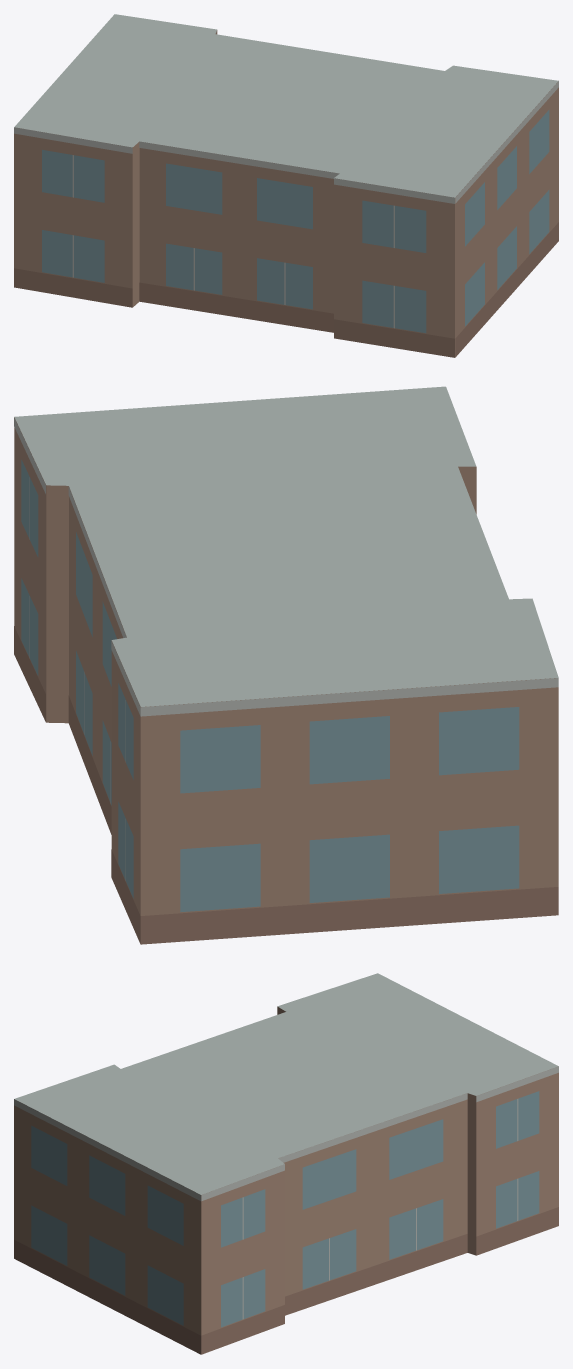
The model's file is survey-upis-32642144.glb.
The picture shows the model from 3 angles, top to bottom: view 1: azimuth 30°, elevation 25°; view 2: azimuth 150°, elevation 25°; view 3: azimuth 270°, elevation 25°; orthographic projection. The views are drawn at different scales.
Visible parts, largest first — view 1: survey-upis-32642144.tmp; view 2: survey-upis-32642144.tmp; view 3: survey-upis-32642144.tmp.
Boxes of the visible parts, x1=… form: survey-upis-32642144.tmp: x1=14, y1=14, x2=558, y2=357; survey-upis-32642144.tmp: x1=14, y1=386, x2=558, y2=944; survey-upis-32642144.tmp: x1=14, y1=973, x2=558, y2=1354.
Size of the model in its own units: 18.18 by 6.1 by 18.87.
